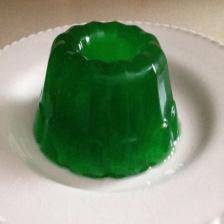green: (33, 21, 180, 178)
